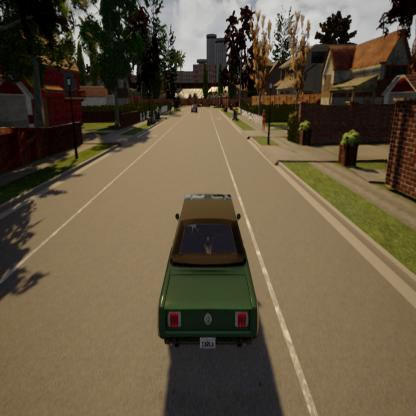Cars: (146, 180, 272, 368), (188, 100, 200, 116)
Pedestrian: (260, 107, 269, 139)
